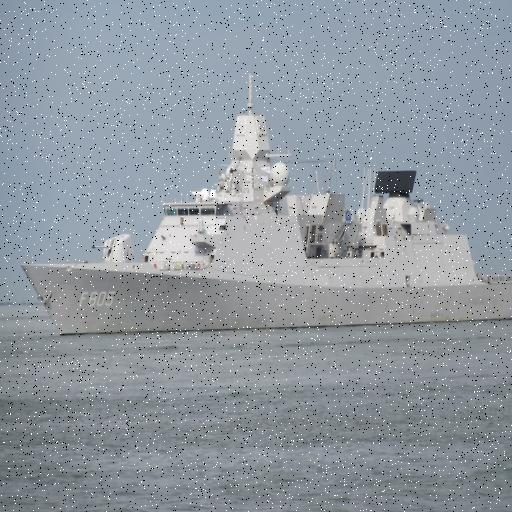Fragata: (16, 70, 512, 340)
